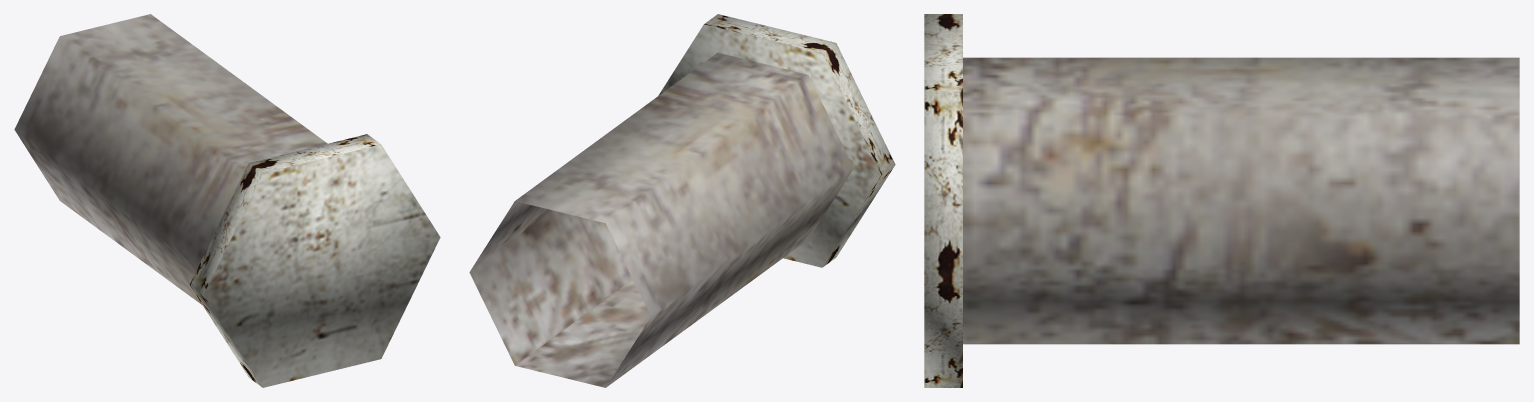
The model's file is large_white_2.fbx.
3 views of the same model, side by side, from view 1: azimuth 30°, elevation 25°; view 2: azimuth 150°, elevation 25°; view 3: azimuth 270°, elevation 25° (orthographic). The views are drawn at different scales.
Parts seen in each view (by area): view 1: polySurface652; view 2: polySurface652; view 3: polySurface652.
Boxes of the visible parts, bbox=[...] form: polySurface652: bbox=[14, 14, 440, 387]; polySurface652: bbox=[469, 14, 895, 387]; polySurface652: bbox=[924, 14, 1519, 387].
Size of the model in its own units: 1.3 by 1.13 by 2.07.
